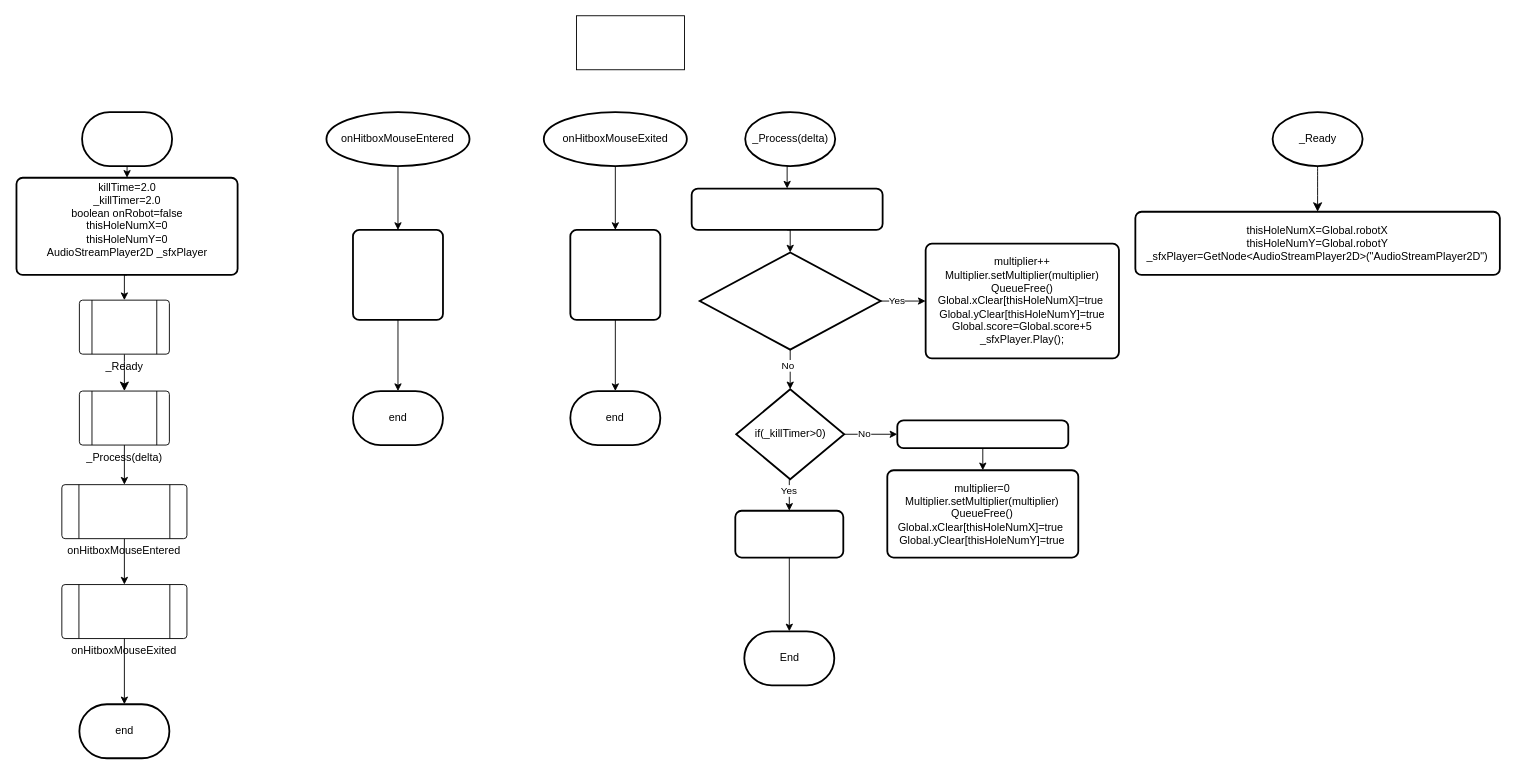
The diagram is 1517 pixels wide and 775 high, and some of its shapes have lost their labels. The centre of each missing label's shape, as x and y in pixels:
_killTimer-=delta: point (789, 533)
_killTimer=killTime: point (982, 434)
if(input="left_click" AND onRobot=true): point (789, 300)
multiplier=Multiplier.getMultiplier(): point (786, 208)
onRobot=false: point (615, 274)
onRobot=true: point (397, 274)
Robot: point (630, 42)
start: point (127, 138)
